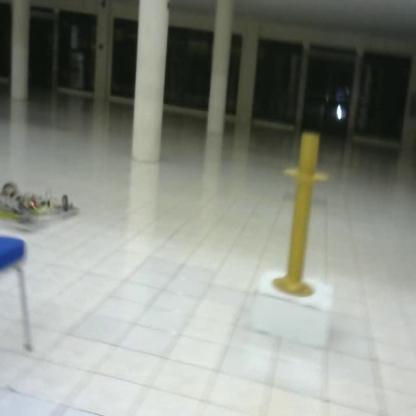pole: (271, 129, 332, 305)
